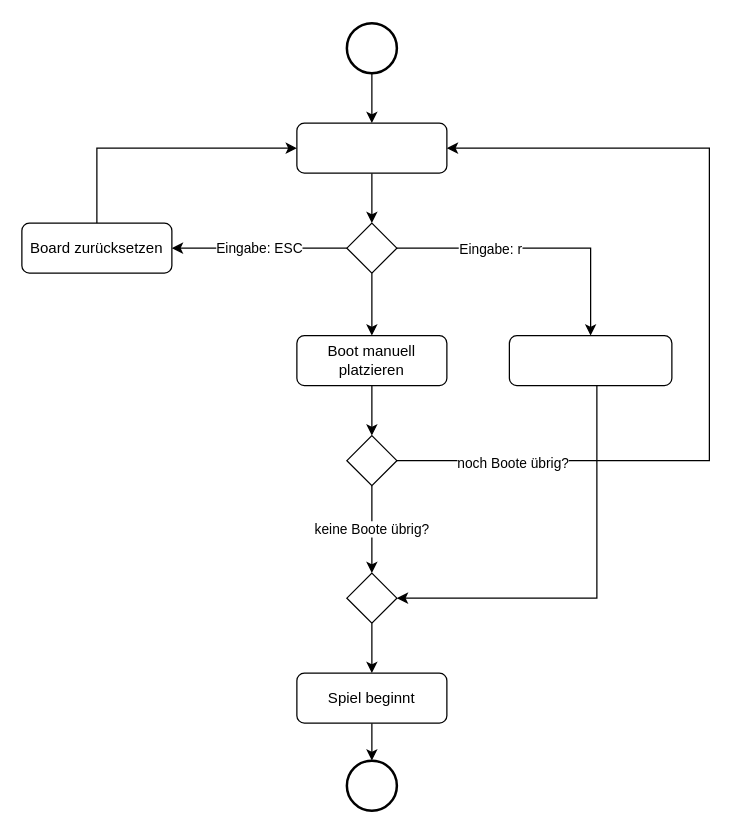
Some shapes in this 741 by 833 pixel diagram are drawn without their labels. Each missing label, with the centre of its shape:
Boot zur Platzierung anzeigen: [371,147]
Boote werden zufällig platziert: [590,360]
